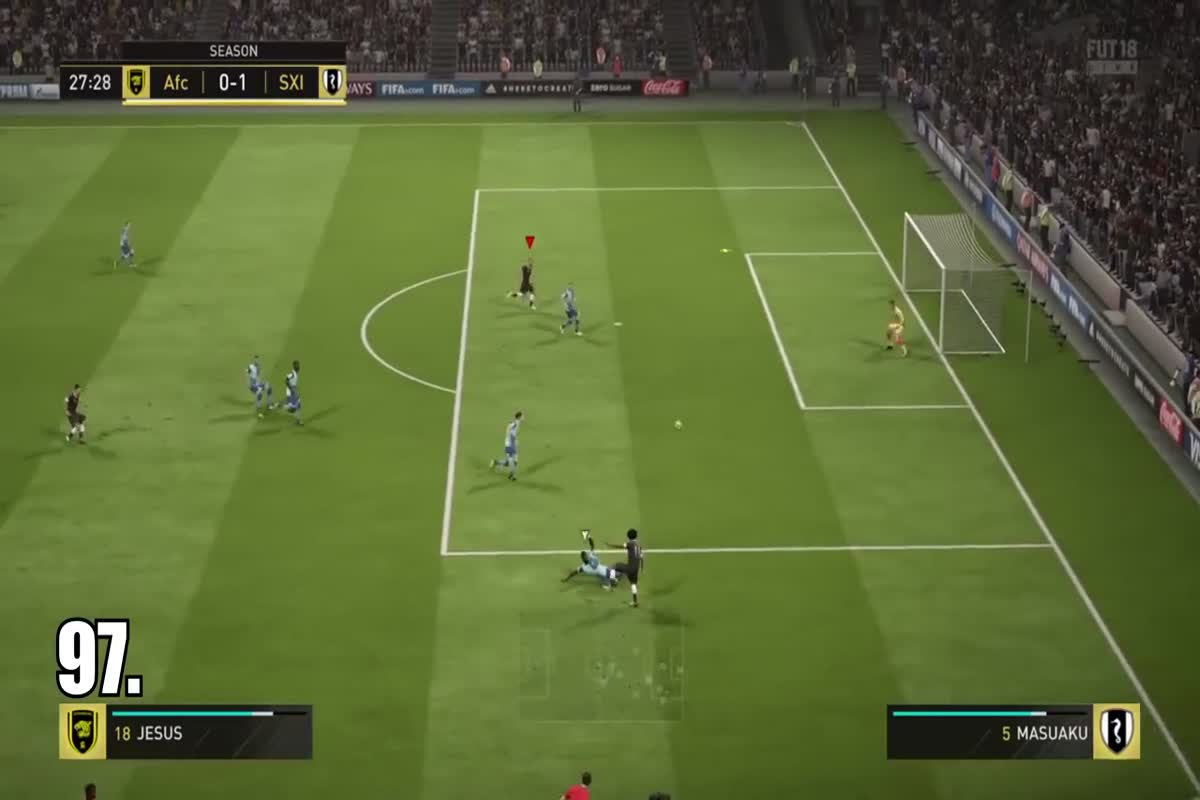ball: (704, 238, 742, 260)
